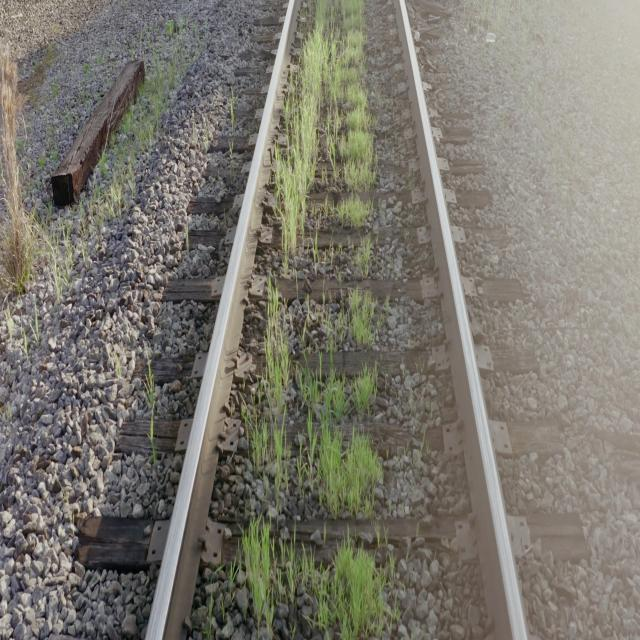Plant: (272, 0, 378, 276), (242, 516, 390, 640), (296, 369, 382, 518), (242, 276, 290, 511), (338, 289, 375, 349)
